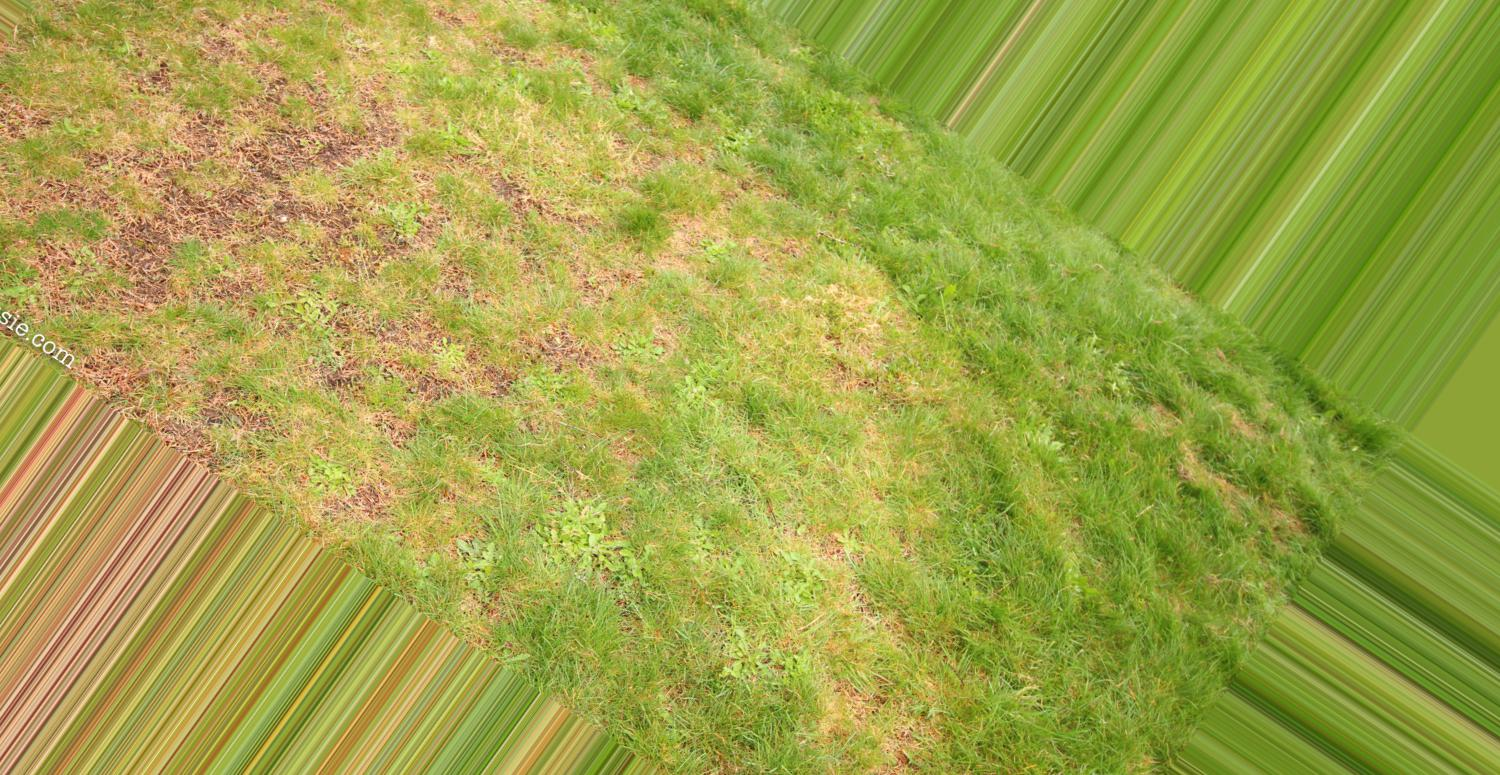patch: (112, 149, 362, 352), (397, 272, 589, 496), (712, 222, 895, 415), (99, 7, 384, 125)
